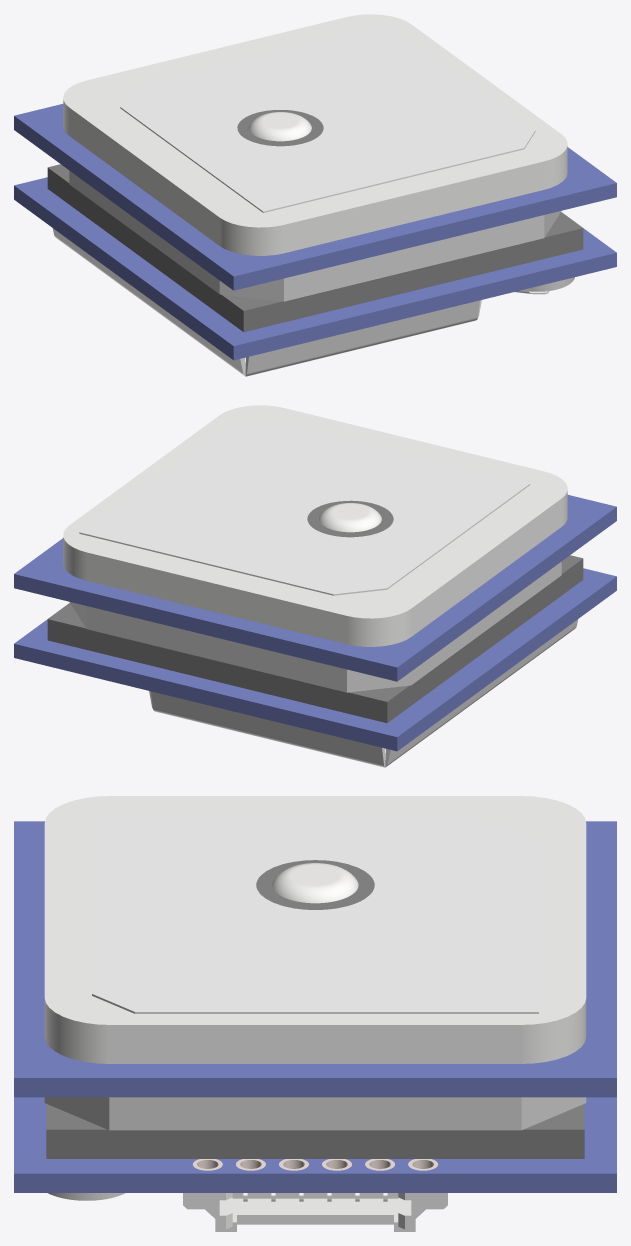
File: gps.gltf
3 views of the same model, one above another, from view 1: azimuth 30°, elevation 25°; view 2: azimuth 150°, elevation 25°; view 3: azimuth 270°, elevation 25° (orthographic). The views are drawn at different scales.
Parts seen in each view (by area): view 1: Body1.009; view 2: Body1.009; view 3: Body1.009.
Part boxes in pixels (bbox=[...]): Body1.009: bbox=[14, 14, 616, 376]; Body1.009: bbox=[14, 405, 616, 767]; Body1.009: bbox=[14, 796, 616, 1231].
Size of the model in its own units: 28.2 by 11.8 by 28.
